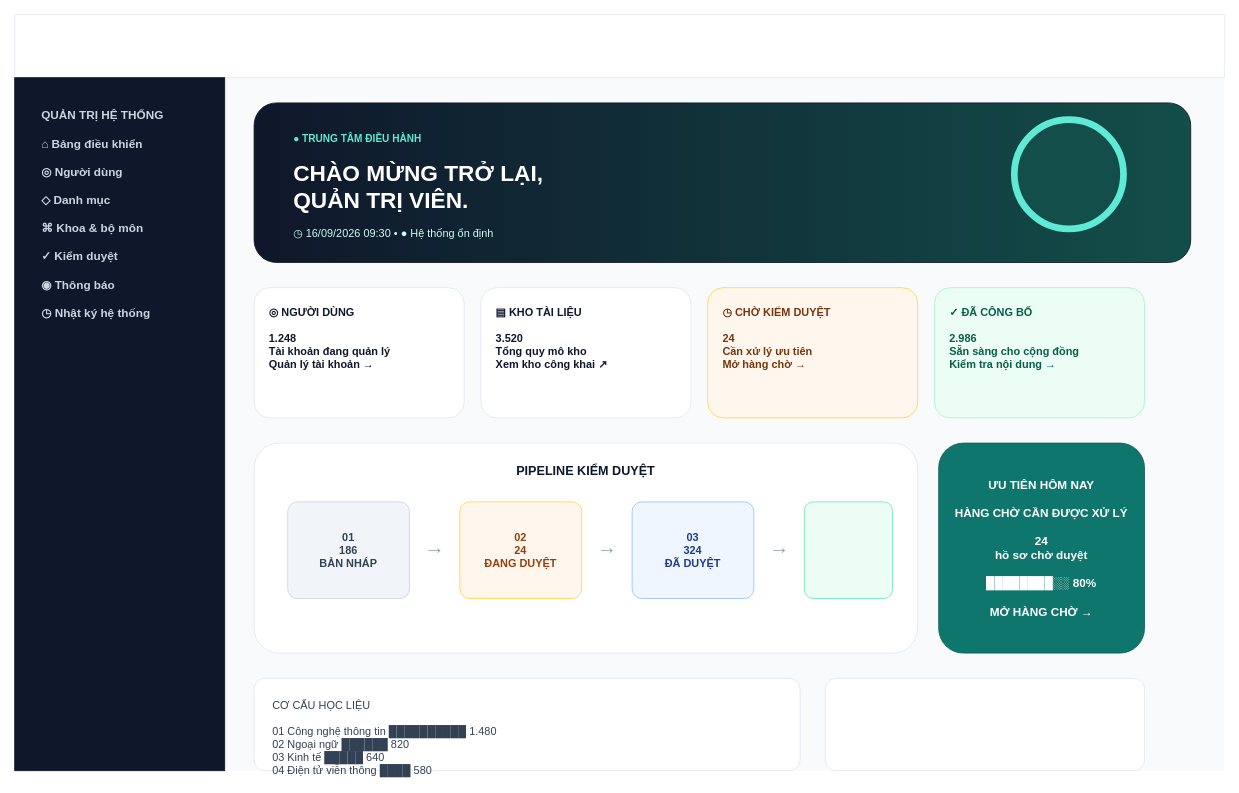
Image size: 1239x793. Some labels were removed from this diagram. The shapes that lost their labels are listed below. From the top down, each one's centre as x and y in pixels, then its label:
point 619,46: ▤ EduRepo TRUNG TÂM ĐIỀU HÀNH 🔔 Quản trị viên
point 1068,174: 82% ĐÃ XỬ LÝ
point 847,549: 04 2.986 CÔNG KHAI
point 984,724: TRUY CẬP NHANH ◎ Người dùng ◇ Danh mục ✓ Kiểm duyệt ◷ Nhật ký
